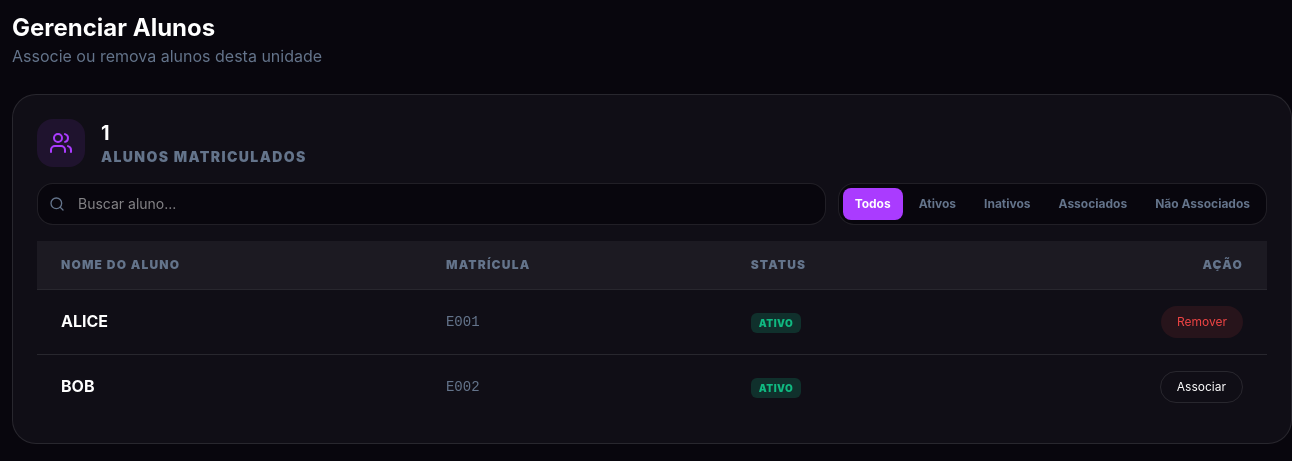
Test: SchoolAlunos › filter "Associados" shows only associated students
Expected: the text "Alice" is shown, [37,289,422,354]
Click the button "Associados". click: (1093, 204)
box: [1047,188,1139,220]
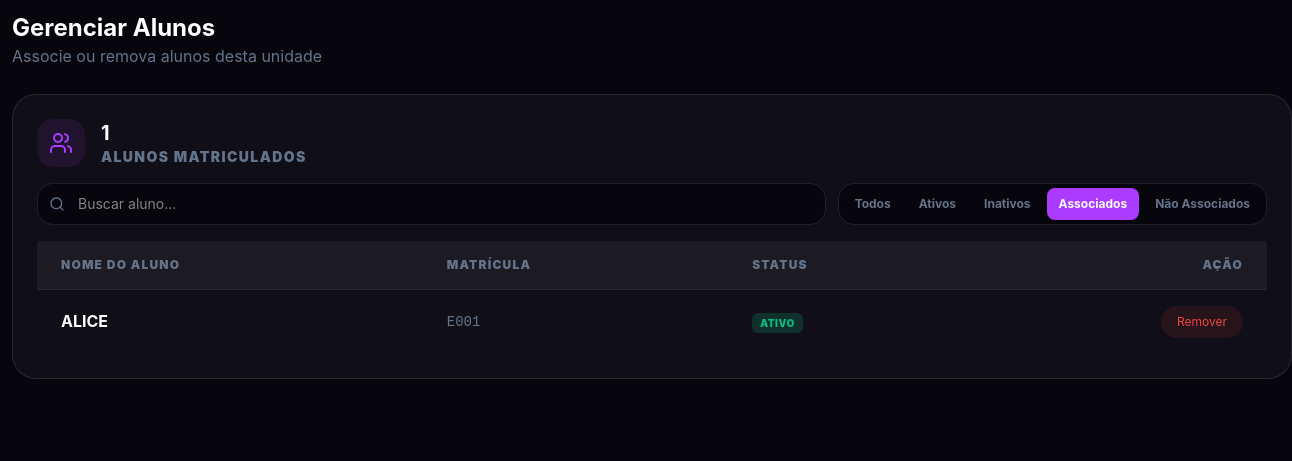
Expected: the text "Alice" is shown, [37,289,423,354]
Now the text "Bob" is gone
